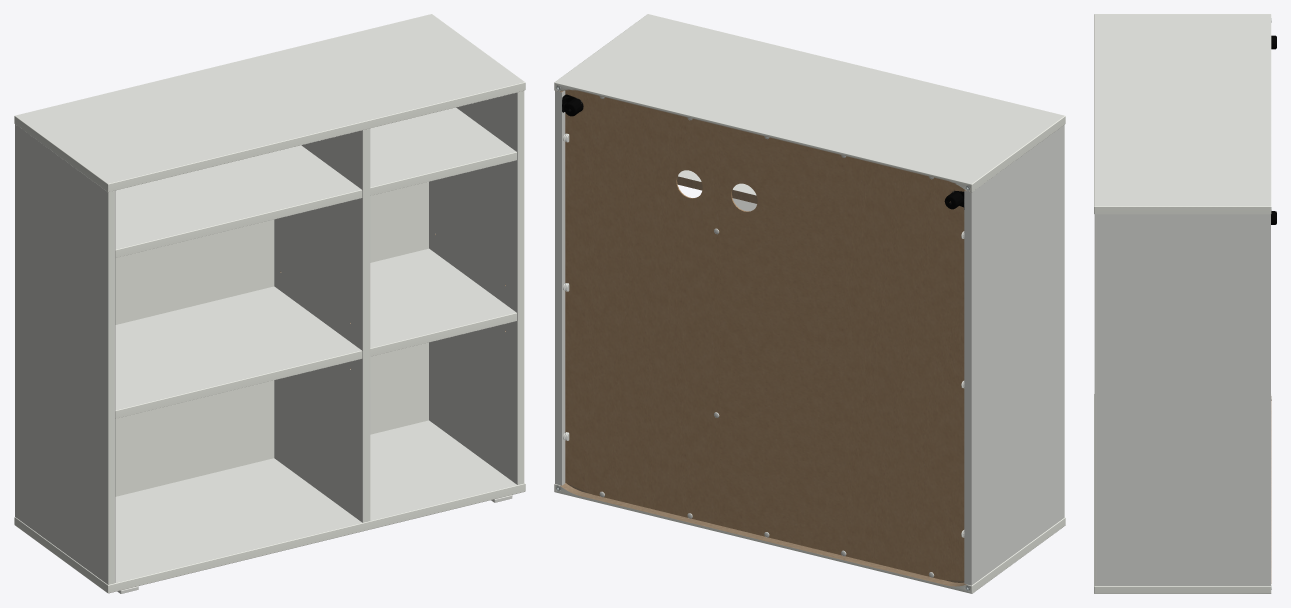
Rendered from VIHALS shelf.glb.
3 renders of one model, left to right at view 1: azimuth 30°, elevation 25°; view 2: azimuth 150°, elevation 25°; view 3: azimuth 270°, elevation 25°, orthographic. The views are drawn at different scales.
Parts seen in each view (by area): view 1: Mesh_0; view 2: Mesh_0; view 3: Mesh_0.
Boxes of the visible parts, <box> form: Mesh_0: <box>14,14,525,593</box>; Mesh_0: <box>554,14,1065,593</box>; Mesh_0: <box>1094,14,1276,593</box>.
Bounding box in the file's own units: 0.952 × 0.8999 × 0.3814.
Materials: 1 (1 with a texture image).
